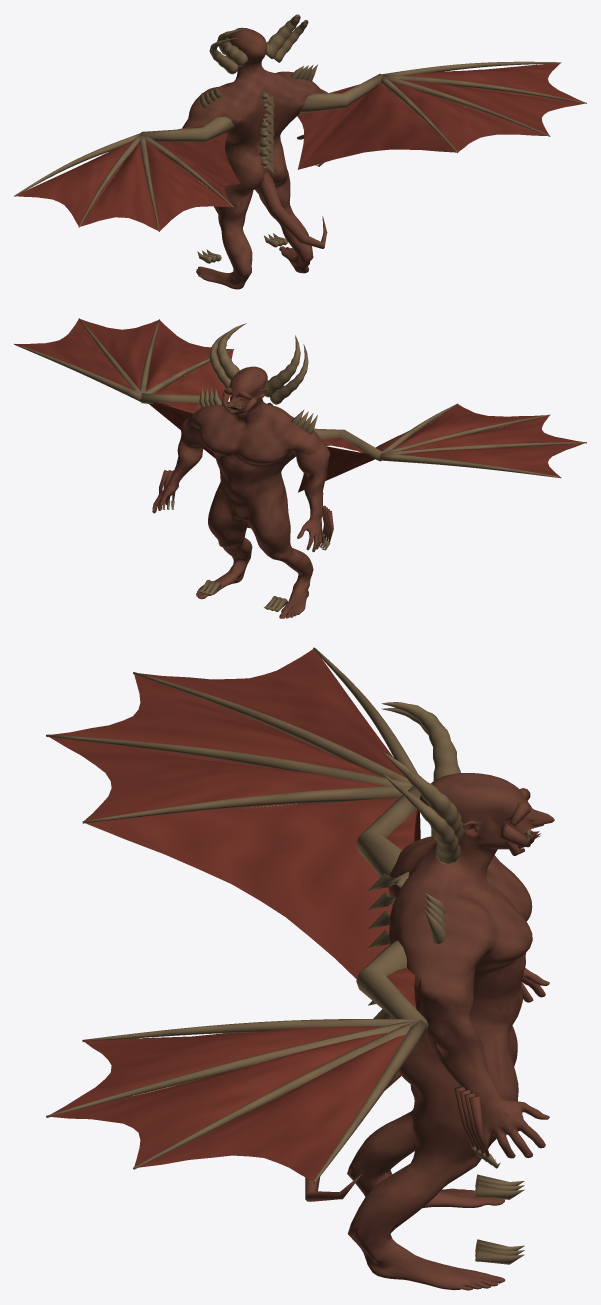
The model's file is abyssal.glb.
3 views of the same model, one above another, from view 1: azimuth 30°, elevation 25°; view 2: azimuth 150°, elevation 25°; view 3: azimuth 270°, elevation 25° (orthographic). The views are drawn at different scales.
Visible parts, largest first — view 1: wingR, wingL, body, plate; view 2: body, wingR, wingL, plate; view 3: wingL, body, wingR, plate.
Part boxes in pixels (box(x1,y1,x2,y2)): wingR: box(297, 61, 586, 169); wingL: box(14, 116, 240, 231); body: box(182, 27, 327, 289); plate: box(197, 14, 323, 263); body: box(152, 366, 333, 618); wingR: box(14, 318, 233, 458); wingL: box(298, 403, 586, 492); plate: box(158, 323, 330, 611); wingL: box(46, 647, 420, 979); body: box(305, 773, 554, 1290); wingR: box(46, 940, 428, 1183); plate: box(368, 702, 531, 1264).
Bounding box in the file's own units: 4.2 × 1.9 × 1.69.
